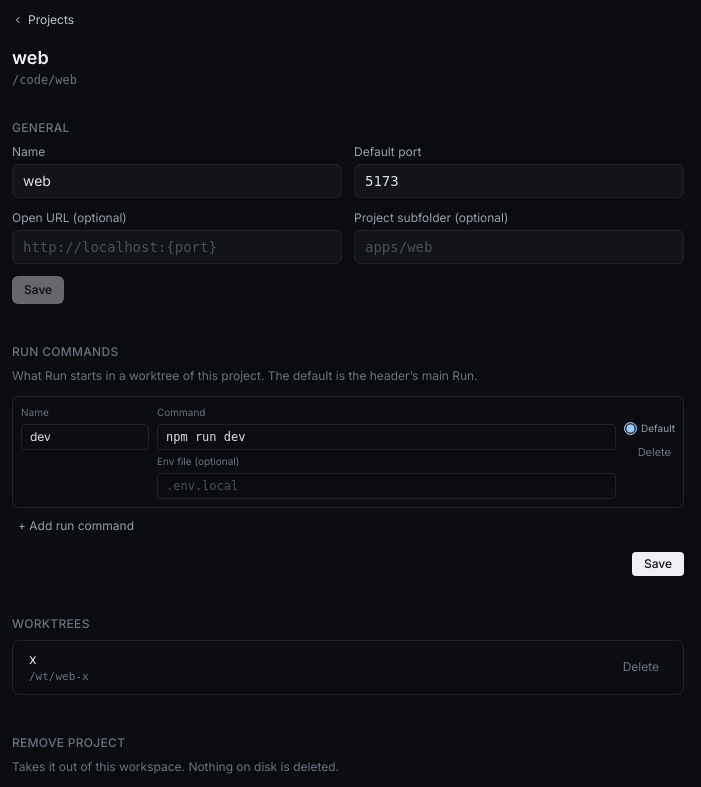
Settings › Projects › opens at the project it is given (the deep link), and ‹ Projects goes back
Expected: the heading "web" is shown, [12, 47, 49, 68]
Click the button "Projects" at coordinates (43, 20), box [12, 12, 74, 28]
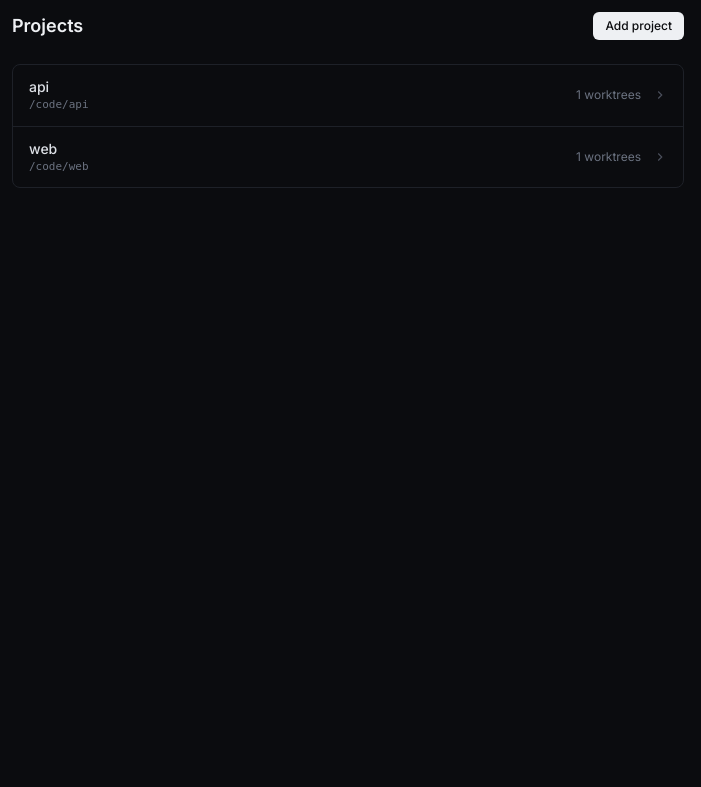
Result: the list named "Projects" is shown at [12, 64, 684, 188]
